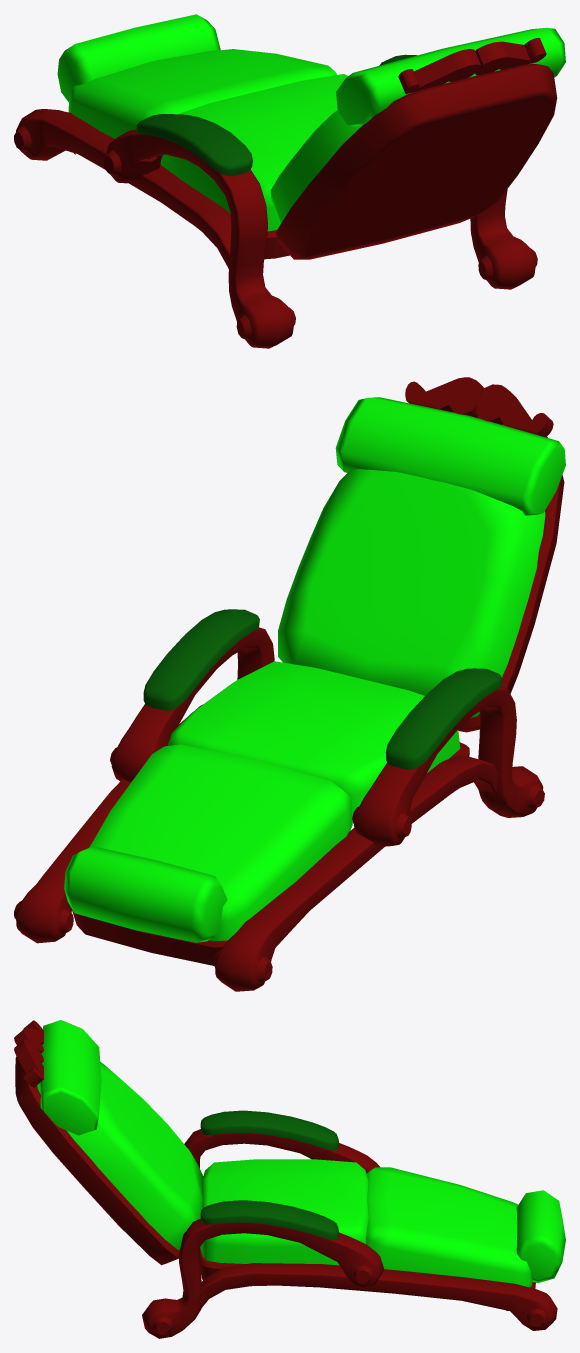
File: sleeping chair.fbx
3 renders of one model, top to bottom at view 1: azimuth 30°, elevation 25°; view 2: azimuth 150°, elevation 25°; view 3: azimuth 270°, elevation 25°, orthographic. The views are drawn at different scales.
Visible parts, largest first — view 1: Station_Chair_U3L6Shape; view 2: Station_Chair_U3L6Shape; view 3: Station_Chair_U3L6Shape.
Part boxes in pixels (x1,y1,x2,y2): Station_Chair_U3L6Shape: (14,14,565,348); Station_Chair_U3L6Shape: (14,377,565,991); Station_Chair_U3L6Shape: (14,1020,565,1338).
Size of the model in its own units: 279 by 306 by 599.
